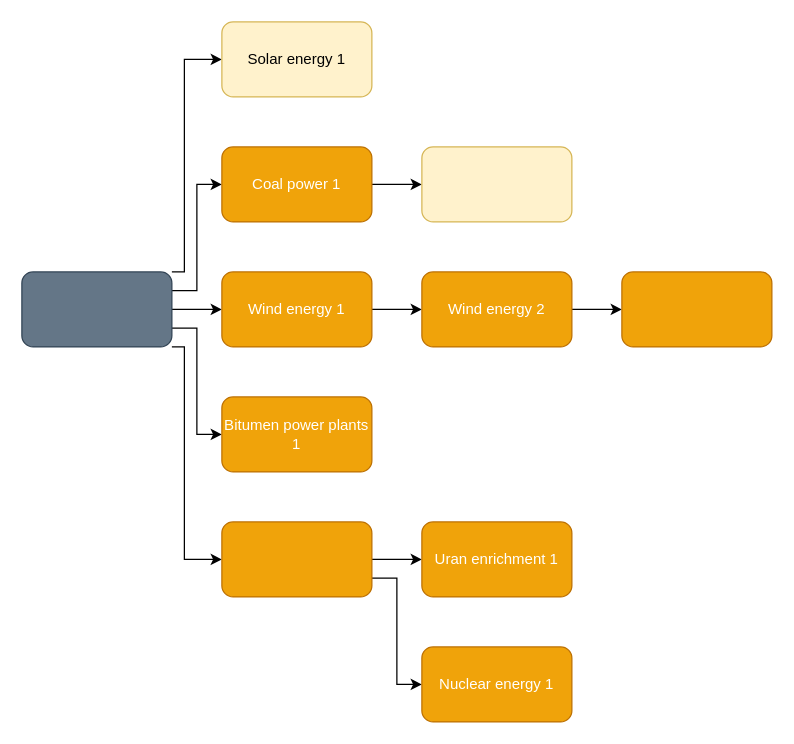
Image size: 794x744. Some labels were removed from this diagram. The centre of each missing label's shape, as x and y in pixels:
"Basics of nuclear energy" goes at (296,559).
"Coal power 2" goes at (496,184).
"Low-tech Energy sources" goes at (96,309).
"Wind energy 3" goes at (696,309).
